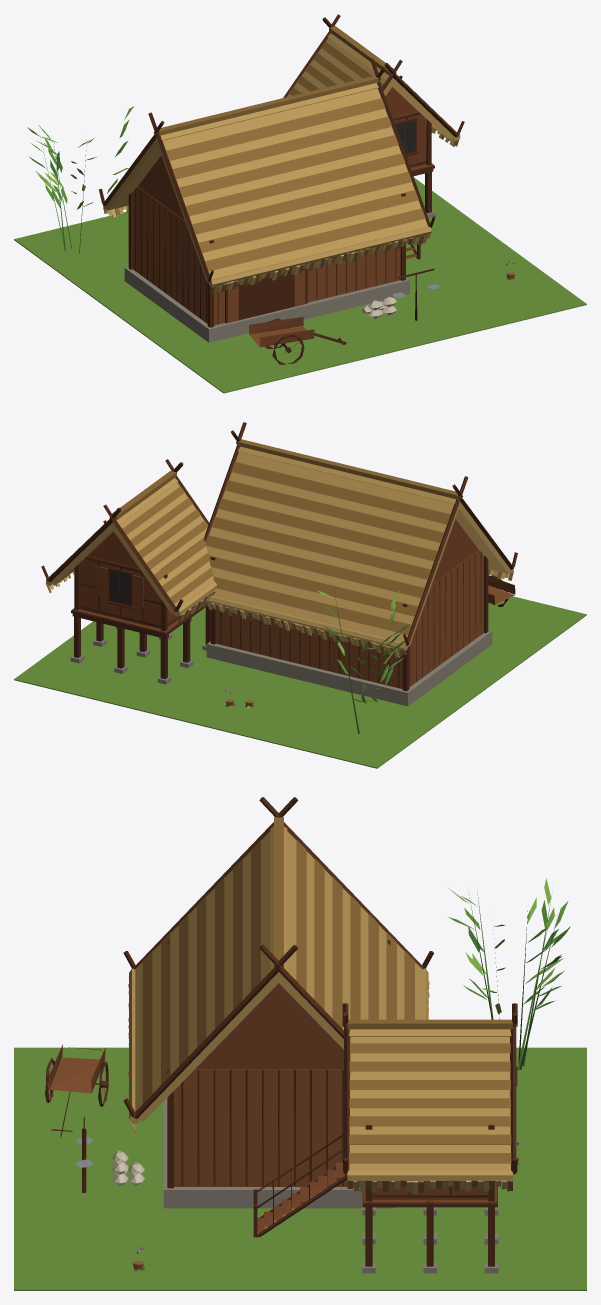
The model's file is shop_4.glb.
3 views of the same model, one above another, from view 1: azimuth 30°, elevation 25°; view 2: azimuth 150°, elevation 25°; view 3: azimuth 270°, elevation 25° (orthographic). The views are drawn at different scales.
Visible parts, largest first — view 1: body; view 2: body, windows; view 3: body.
Boxes of the visible parts, x1,y1,x2,y2 form: body: (14,14,586,393); body: (14,422,586,768); windows: (109,570,130,604); body: (14,797,586,1290).
Bounding box in the file's own units: 15.98 × 8.52 × 15.9.
